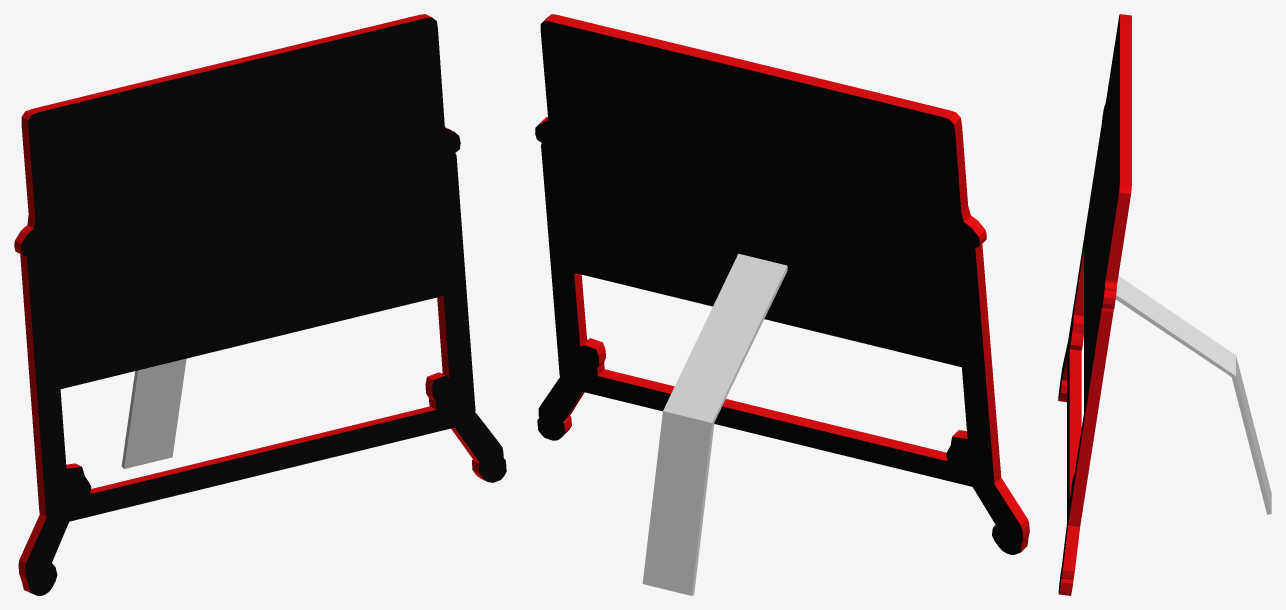
Rendered from whiteboard cardboard.fbx.
The picture shows the model from 3 angles, left to right: view 1: azimuth 30°, elevation 25°; view 2: azimuth 150°, elevation 25°; view 3: azimuth 270°, elevation 25°; orthographic projection. The views are drawn at different scales.
Visible parts, largest first — view 1: path1, Plane; view 2: path1, Plane; view 3: path1, Plane.
Boxes of the visible parts, bbox=[...] form: path1: bbox=[14, 14, 506, 595]; Plane: bbox=[121, 358, 186, 468]; path1: bbox=[535, 14, 1029, 554]; Plane: bbox=[642, 253, 787, 595]; path1: bbox=[1058, 14, 1131, 595]; Plane: bbox=[1115, 276, 1271, 514].
Size of the model in its own units: 4152 by 3796 by 1810.
